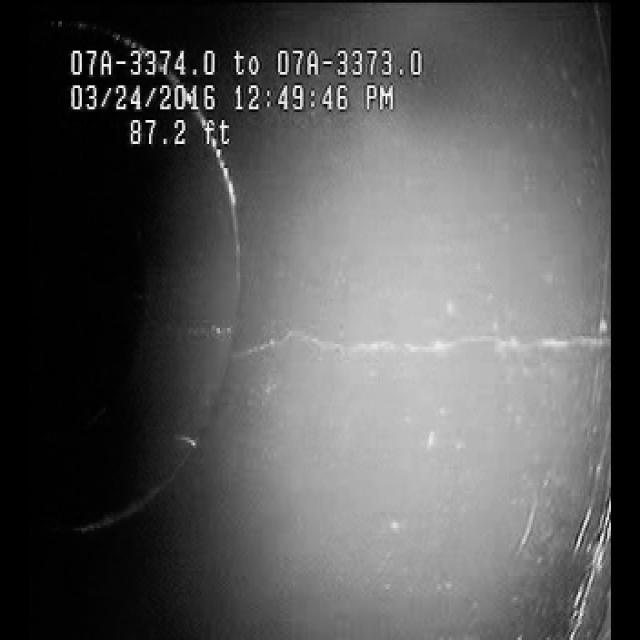Crack: (252, 255, 629, 418)
